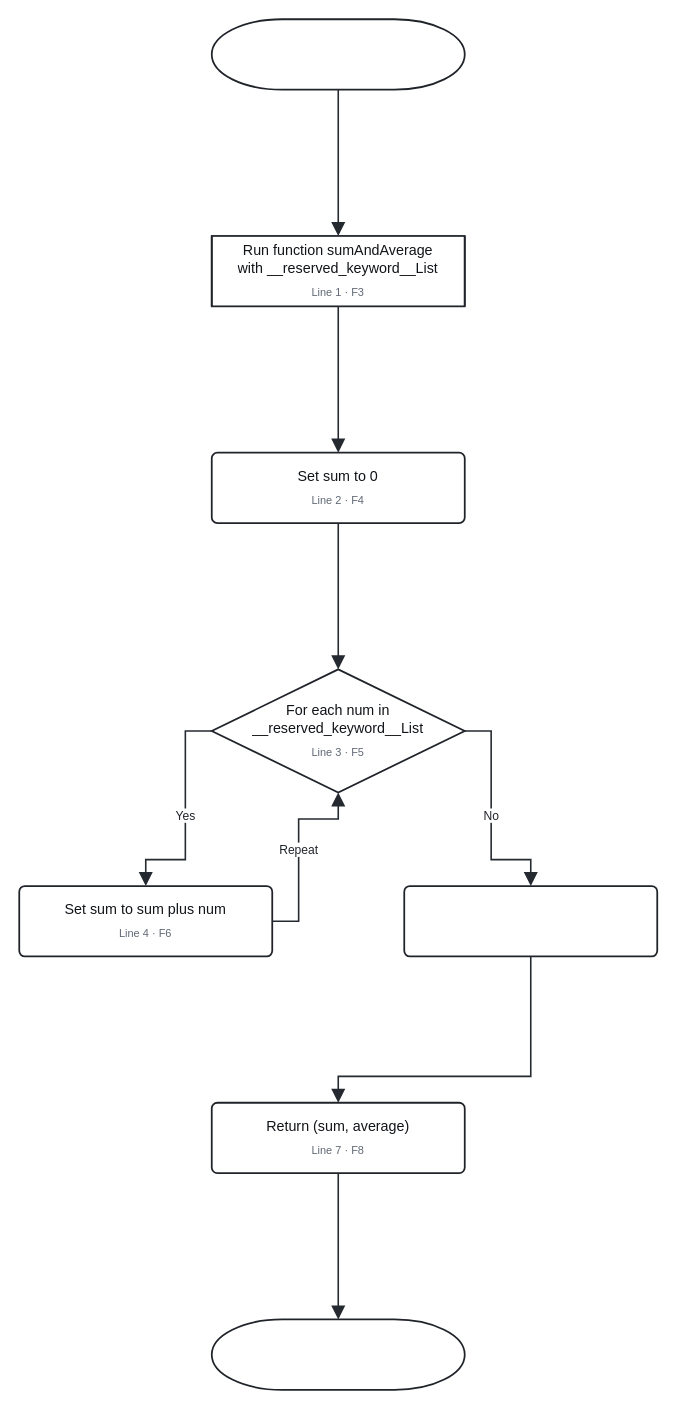
Image size: 678x1410. Some labels were removed from this diagram. Here are the shapes that lost their labels. From the top down, the box of each, then its label:
(210, 18, 465, 90): Start Line 1 · F1
(403, 885, 658, 957): Set average to sum divided by the length of __reserved_keyword__List Line 6 · F7
(210, 1318, 465, 1390): End Line 1 · F2
